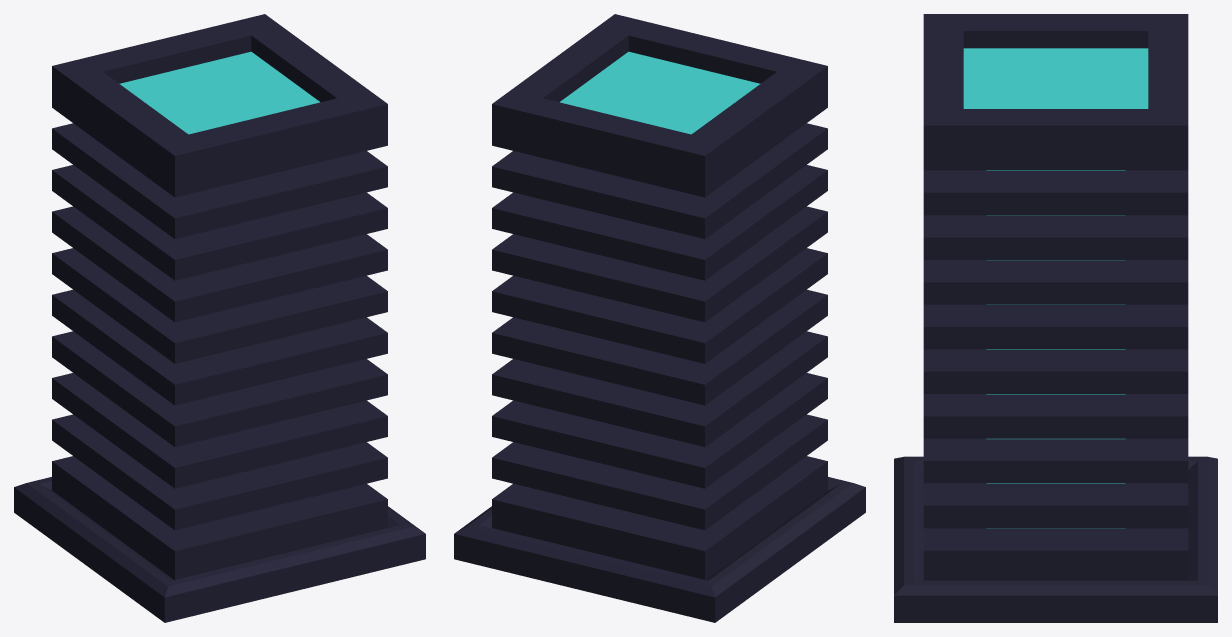
File: Server.fbx
3 views of the same model, side by side, from view 1: azimuth 30°, elevation 25°; view 2: azimuth 150°, elevation 25°; view 3: azimuth 270°, elevation 25° (orthographic). The views are drawn at different scales.
Visible parts, largest first — view 1: ServerColonne, Server; view 2: ServerColonne, Server; view 3: ServerColonne, Server.
Boxes of the visible parts, bbox=[...] form: ServerColonne: bbox=[52, 14, 387, 579]; Server: bbox=[14, 477, 425, 622]; ServerColonne: bbox=[492, 14, 827, 579]; Server: bbox=[454, 477, 865, 622]; ServerColonne: bbox=[923, 14, 1188, 580]; Server: bbox=[894, 456, 1217, 622].
Bounding box in the file's own units: 0.666 × 1.1 × 0.666.
